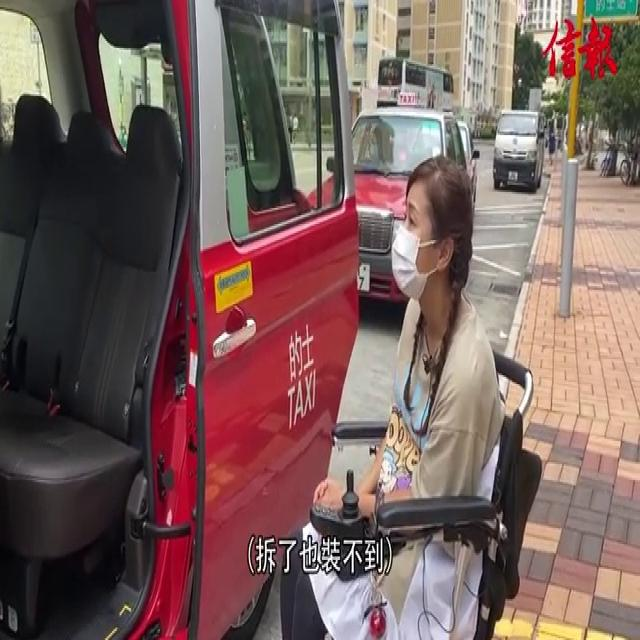wheelchairs: (312, 330, 550, 640)
